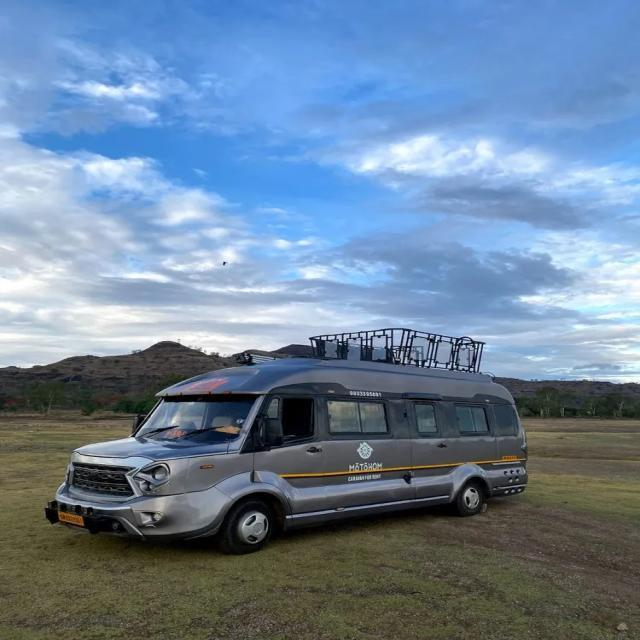Ambulance: (1, 412, 638, 638), (40, 326, 532, 557)
